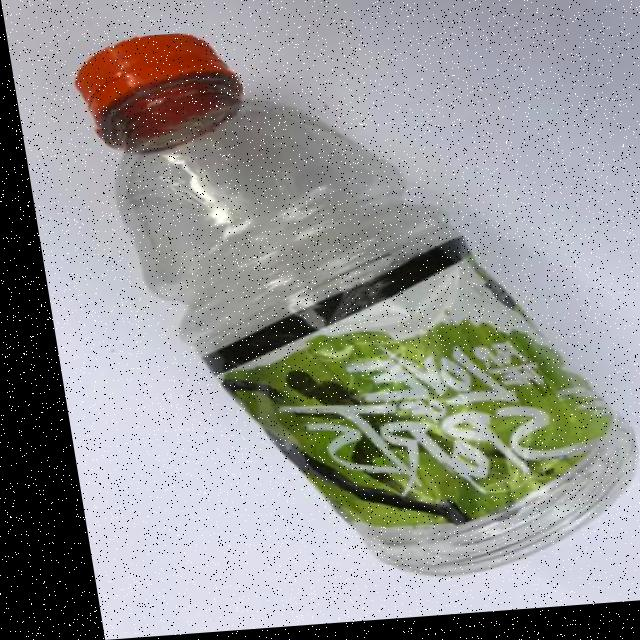plasticbottlecap: (54, 33, 244, 143)
